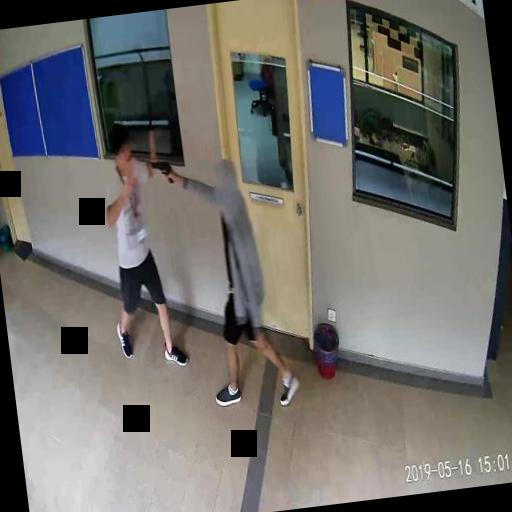Handgun: (148, 158, 174, 184)
